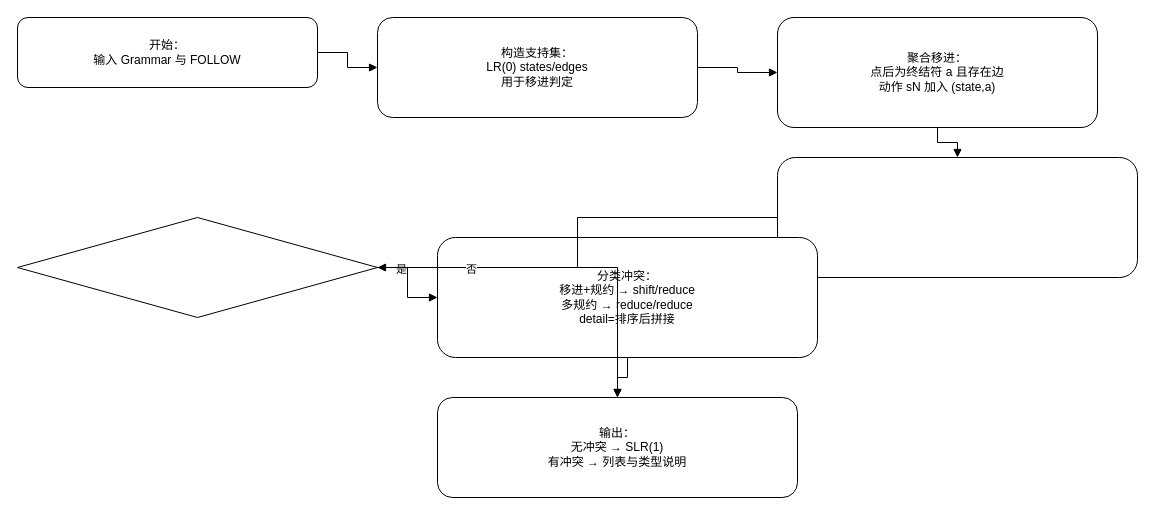
This 1155x515 diagram has some shape labels left out. The shapes that lost their labels are listed below. From the top down, each one's centre as x and y in pixels, then its label:
At [957,217]: "聚合规约： 末项 A→α 对 b∈FOLLOW(A) 加入 r A -> α 至 (state,b)".
At [197,267]: "判定： (state,terminal) 动作集合 size ≥ 2 ?".
